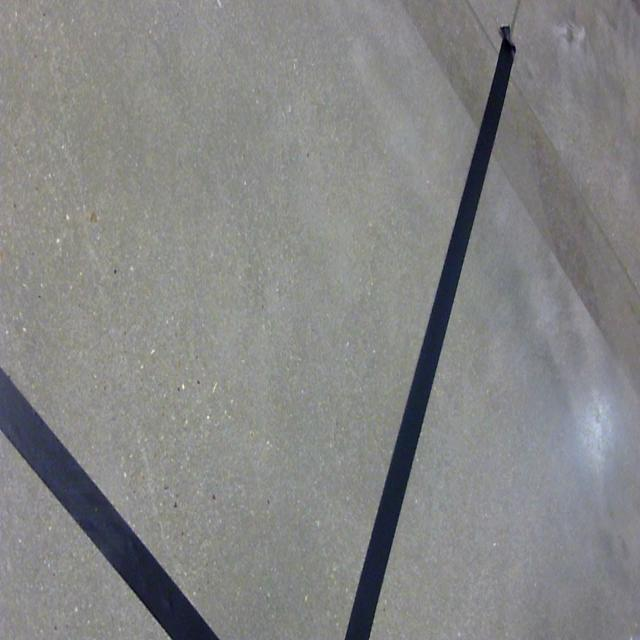tape: (338, 12, 529, 640), (0, 351, 246, 640)
